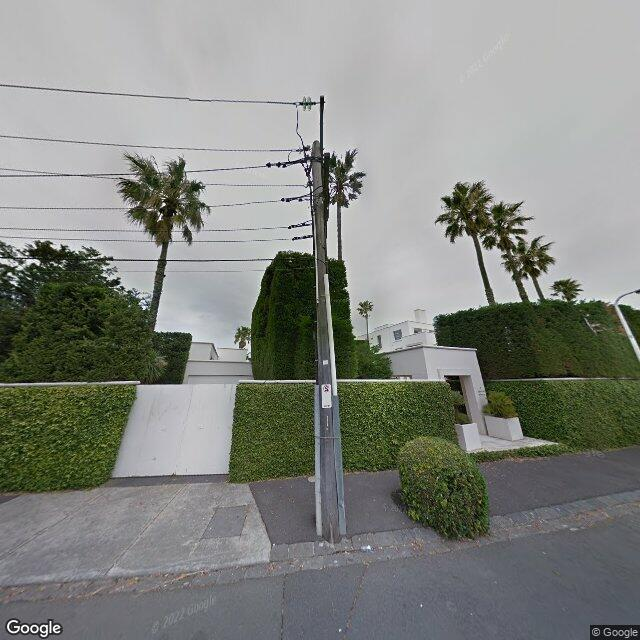HV-transmission: (291, 95, 316, 187)
crossarm: (324, 152, 330, 221), (321, 95, 324, 163)
timber-pole: (312, 140, 341, 543)
